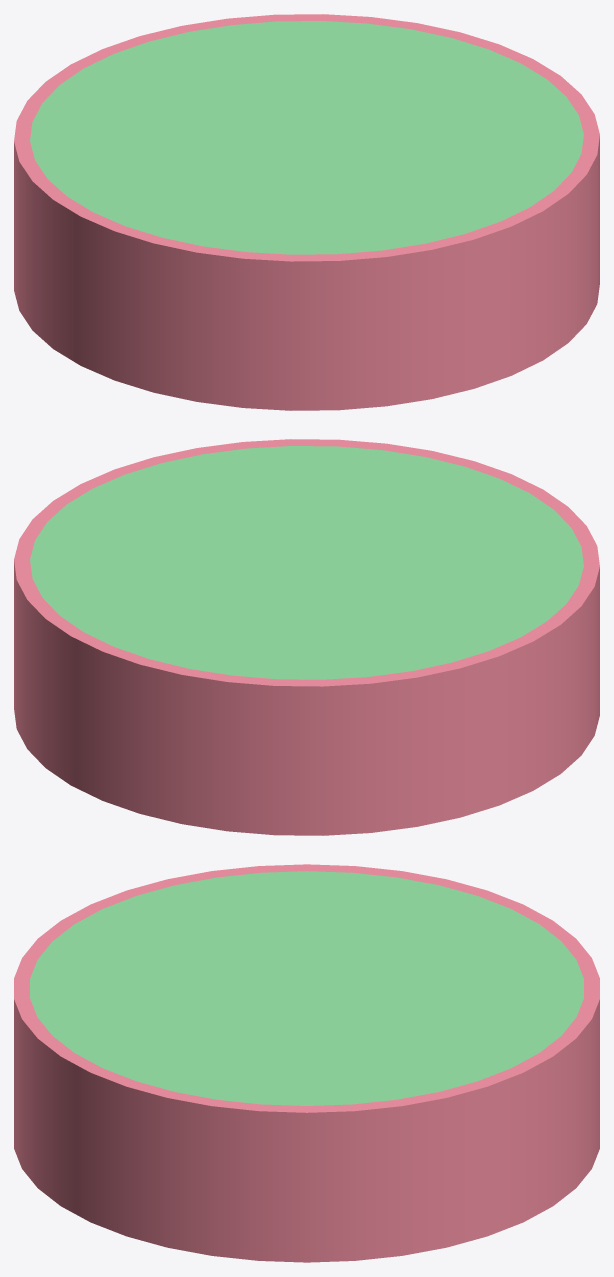
File: plafonnier_style2_001.fbx
3 views of the same model, one above another, from view 1: azimuth 30°, elevation 25°; view 2: azimuth 150°, elevation 25°; view 3: azimuth 270°, elevation 25° (orthographic).
Parts seen in each view (by area): view 1: plafonier2; view 2: plafonier2; view 3: plafonier2.
Boxes of the visible parts, x1,y1,x2,y2 form: plafonier2: (14,14,599,410); plafonier2: (14,439,599,835); plafonier2: (14,864,599,1262).
Bounding box in the file's own units: 46.46 × 13.06 × 46.3.
